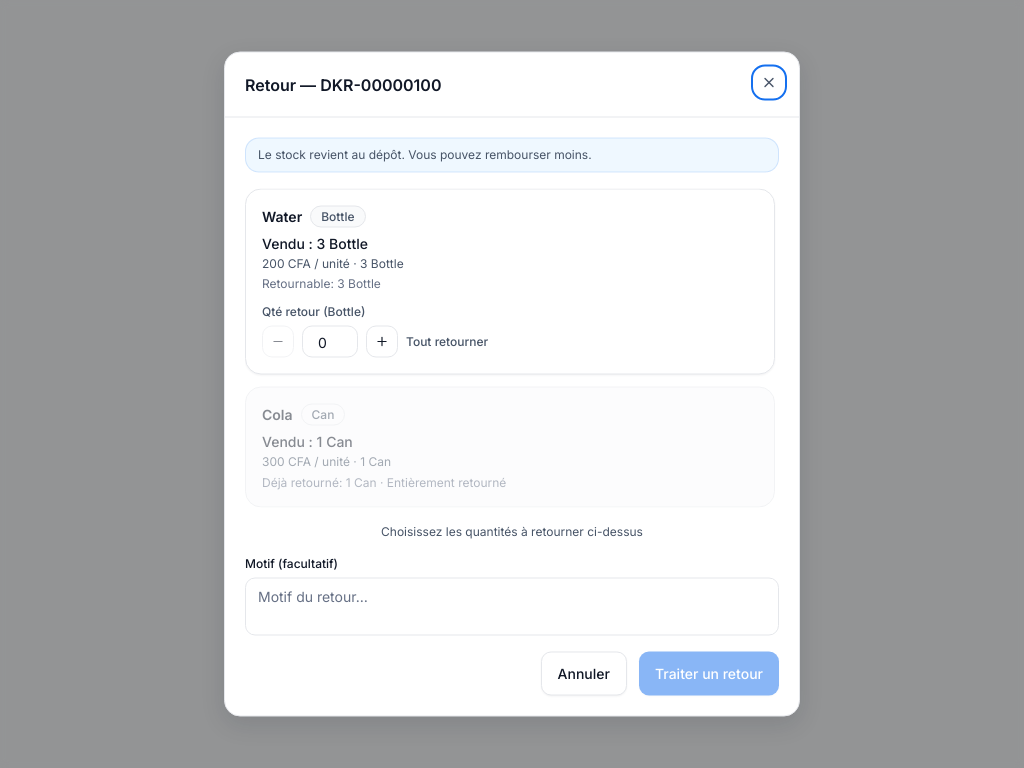
ReturnModal › updates preview when return quantity changes
Click the button "Tout retourner".
click(447, 342)  # box [406,333,488,350]
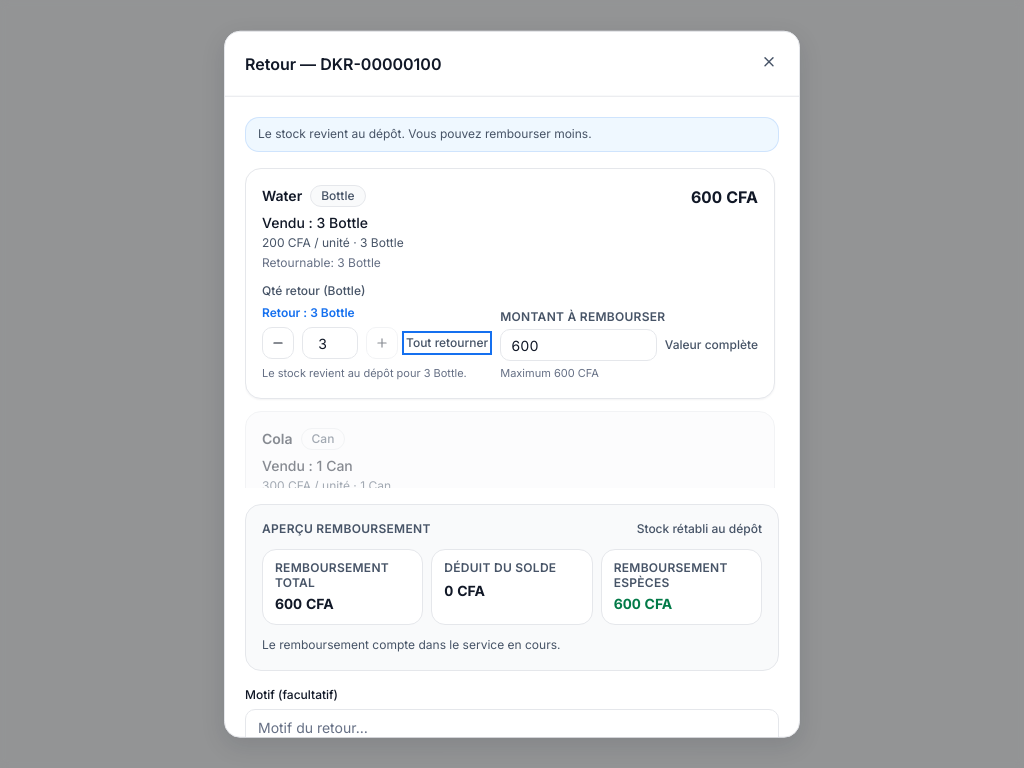
Click the 2nd button.
click(278, 343)  # box [262,327,294,359]
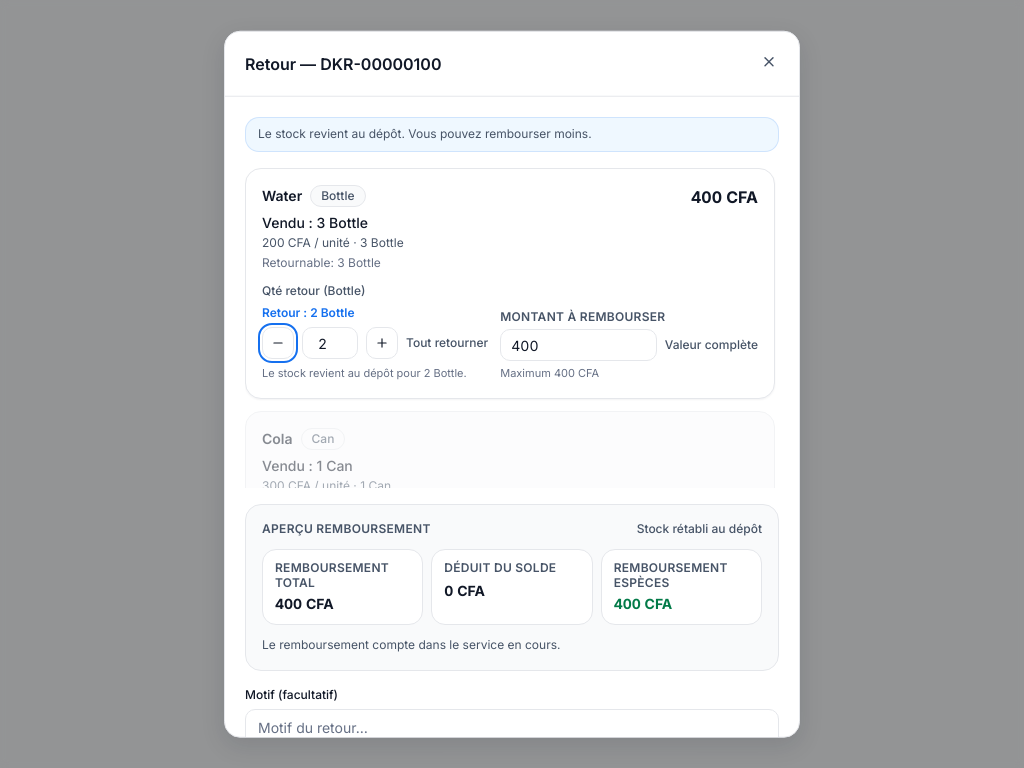
Click the 2nd button.
click(278, 343)  # box [262,327,294,359]
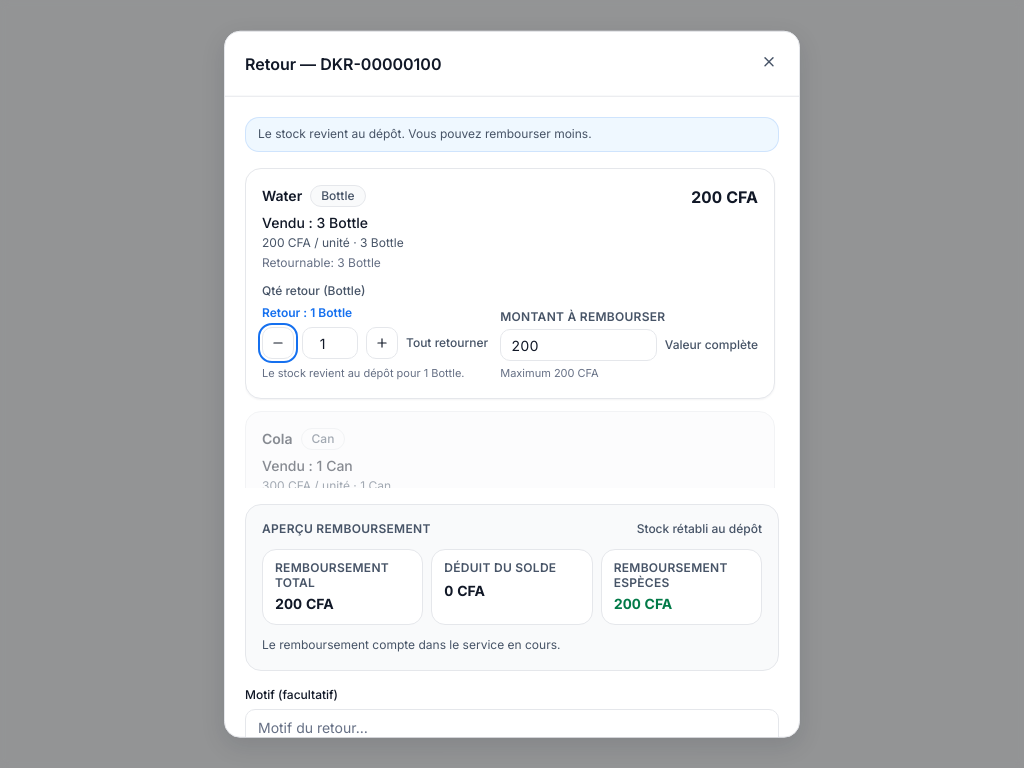
Now the text "Remboursement total" is shown, box [275,560,389,590]
Now the number field holds "1", box [302,327,358,359]
